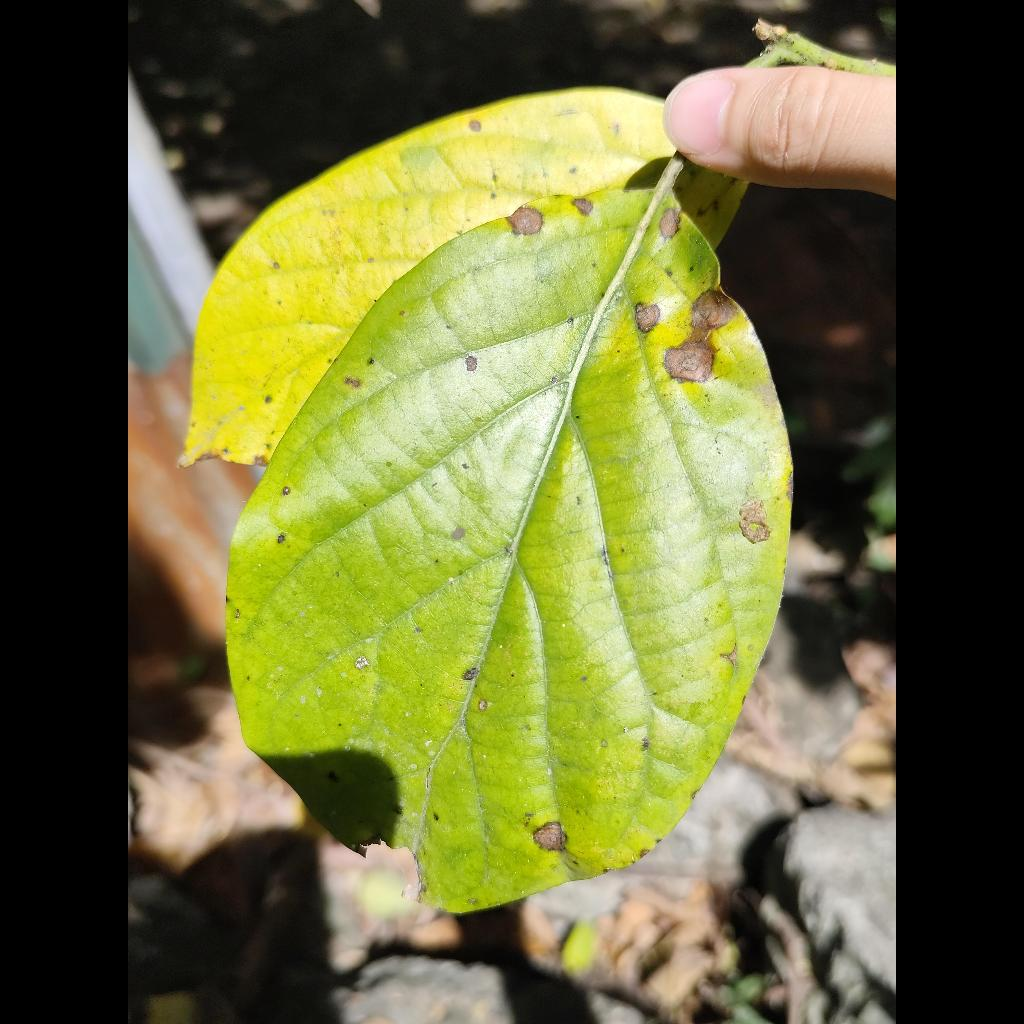deficiencia_nutricional: (228, 156, 792, 912)
